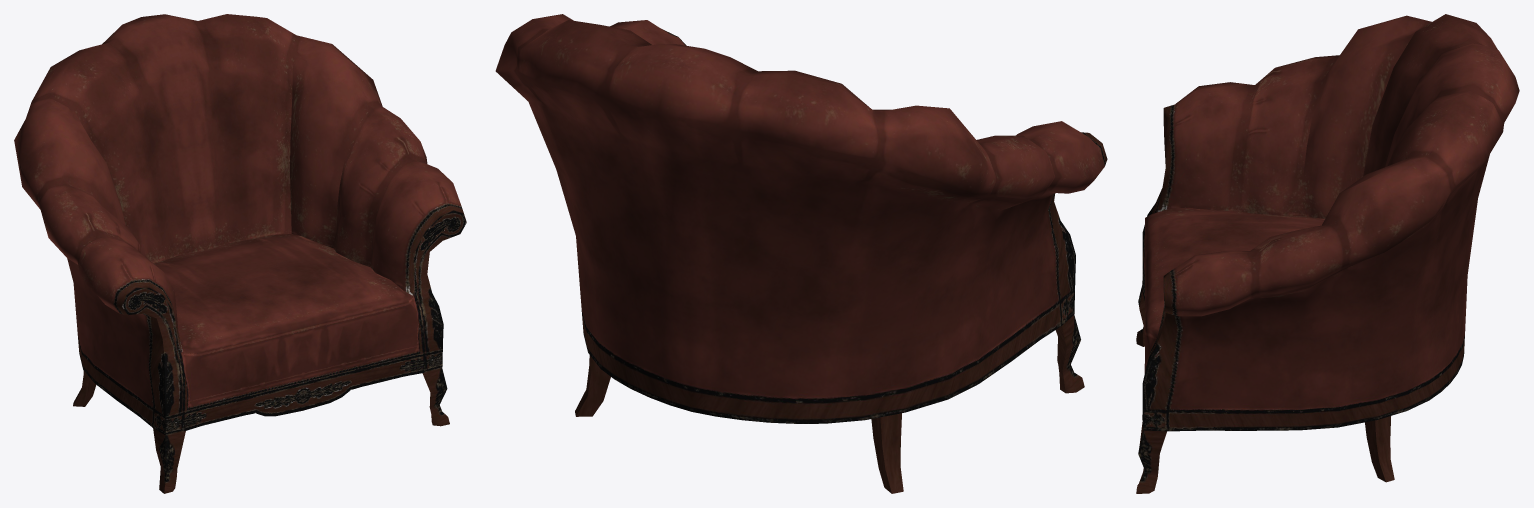
Rendered from Sofa_Single-2.glb.
3 renders of one model, left to right at view 1: azimuth 30°, elevation 25°; view 2: azimuth 150°, elevation 25°; view 3: azimuth 270°, elevation 25°, orthographic. The views are drawn at different scales.
Parts seen in each view (by area): view 1: Sofa020_001_Sofa020_0; view 2: Sofa020_001_Sofa020_0; view 3: Sofa020_001_Sofa020_0.
Part boxes in pixels (left/top/right/bottom): Sofa020_001_Sofa020_0: left=14, top=14, right=466, bottom=493; Sofa020_001_Sofa020_0: left=495, top=14, right=1107, bottom=493; Sofa020_001_Sofa020_0: left=1136, top=14, right=1519, bottom=493.
Size of the model in its own units: 3.54 by 3 by 2.88.
Materials: 1 (1 with a texture image).
